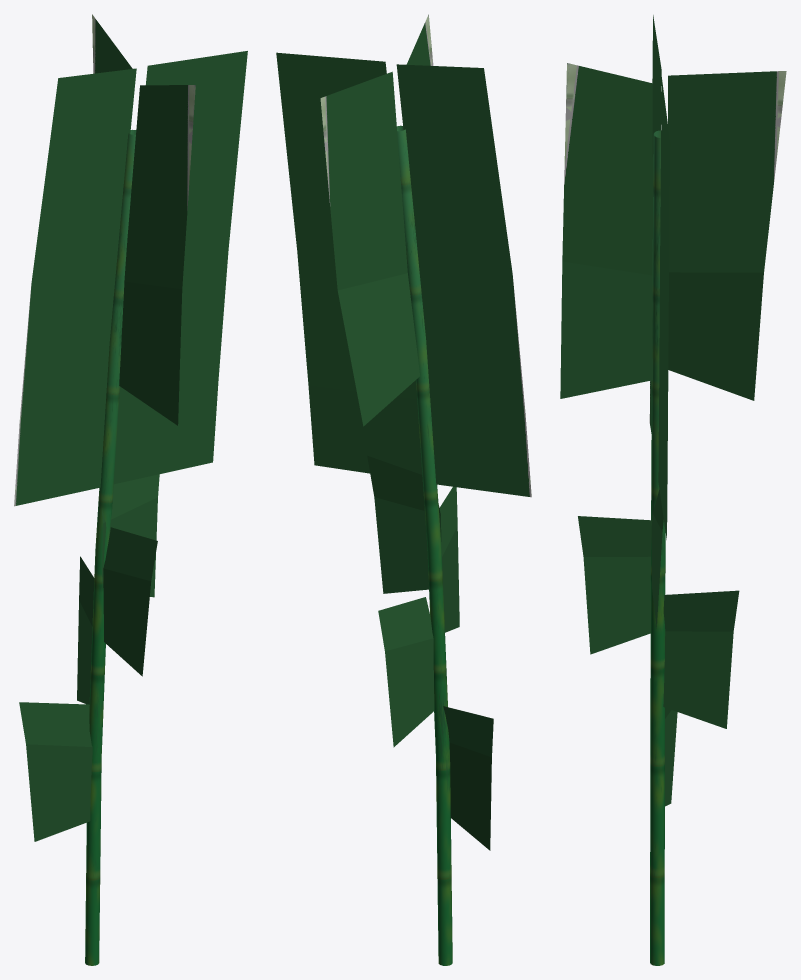
Rendered from BAMBU PRA ENFIAR NO CU.fbx.
3 views of the same model, side by side, from view 1: azimuth 30°, elevation 25°; view 2: azimuth 150°, elevation 25°; view 3: azimuth 270°, elevation 25° (orthographic). The views are drawn at different scales.
Parts seen in each view (by area): view 1: bambu_LOD0; view 2: bambu_LOD0; view 3: bambu_LOD0.
Boxes of the visible parts, x1,y1,x2,y2 form: bambu_LOD0: [14, 14, 247, 965]; bambu_LOD0: [276, 14, 531, 965]; bambu_LOD0: [560, 15, 786, 965].
Size of what is drawn, in the model's own units: 404 by 1419 by 313.
